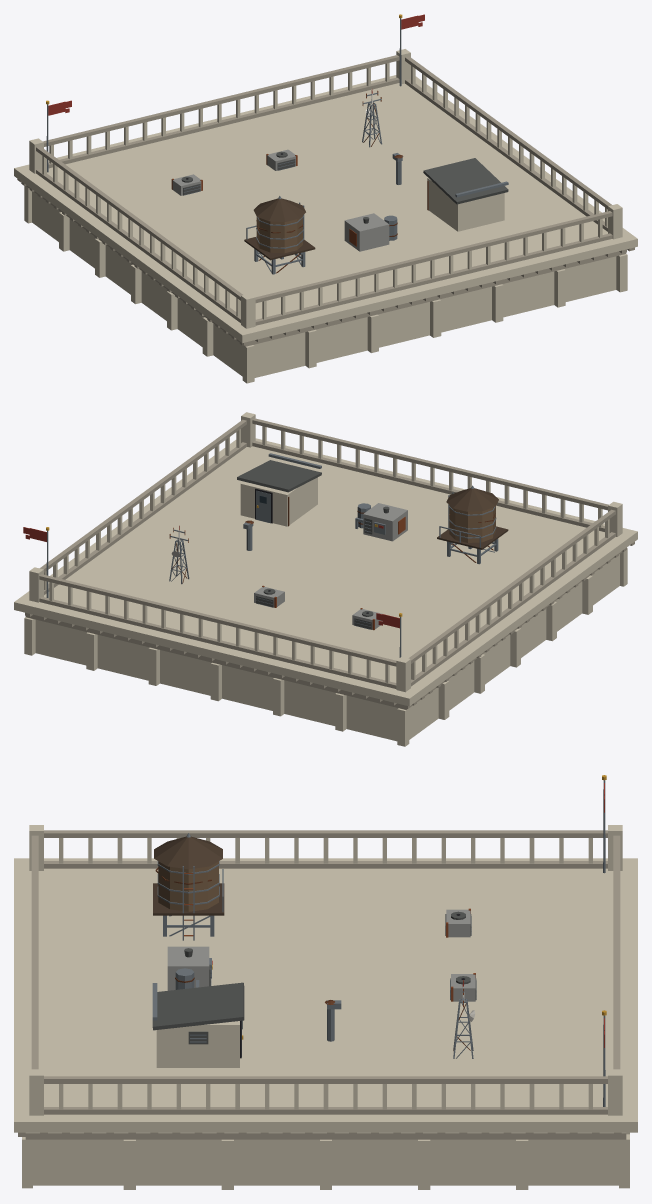
File: tw_stone_24_crown.glb
3 renders of one model, top to bottom at view 1: azimuth 30°, elevation 25°; view 2: azimuth 150°, elevation 25°; view 3: azimuth 270°, elevation 25°, orthographic. The views are drawn at different scales.
Parts seen in each view (by area): view 1: tw_stone_24_crown; view 2: tw_stone_24_crown; view 3: tw_stone_24_crown.
Part boxes in pixels (x1,y1,x2,y2): tw_stone_24_crown: (14,14,637,383); tw_stone_24_crown: (14,412,637,746); tw_stone_24_crown: (14,775,637,1189).
Size of the model in its own units: 25.62 by 7.54 by 25.44.
Materials: 3 (3 with a texture image).
